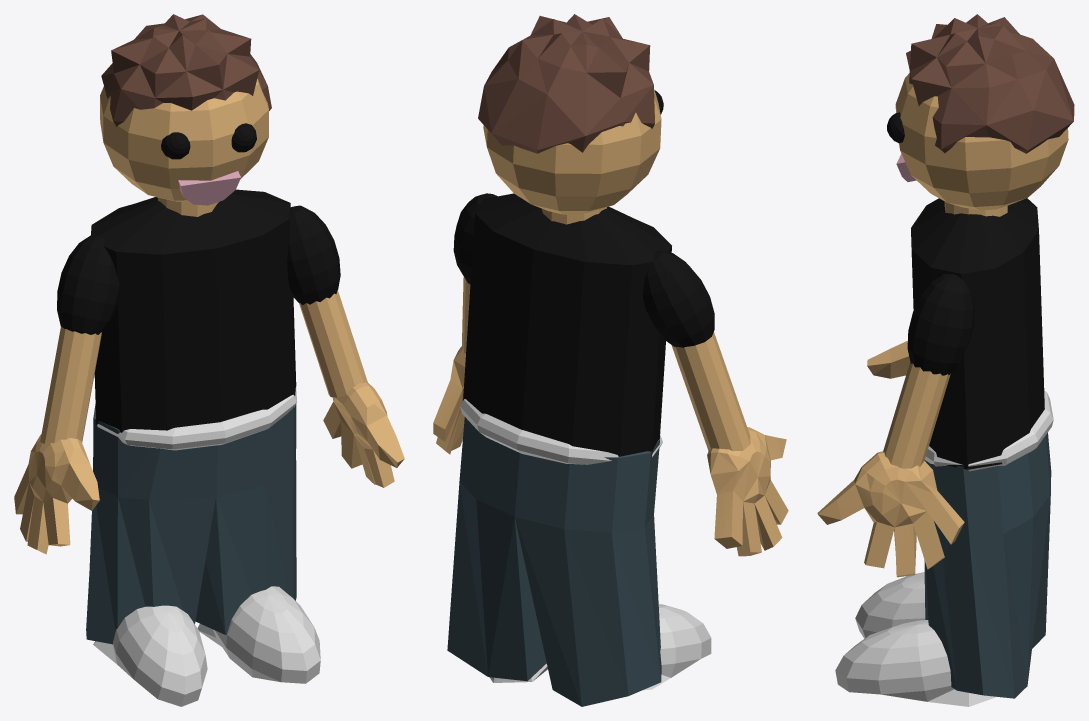
3 renders of one model, left to right at view 1: azimuth 30°, elevation 25°; view 2: azimuth 150°, elevation 25°; view 3: azimuth 270°, elevation 25°, orthographic. The views are drawn at different scales.
Parts seen in each view (by area): view 1: node_MeshObject-1137609408-PolyPaper18; view 2: node_MeshObject-1137609408-PolyPaper18; view 3: node_MeshObject-1137609408-PolyPaper18.
Boxes of the visible parts, x1=… form: node_MeshObject-1137609408-PolyPaper18: x1=14, y1=14, x2=404, y2=706; node_MeshObject-1137609408-PolyPaper18: x1=433, y1=14, x2=788, y2=706; node_MeshObject-1137609408-PolyPaper18: x1=817, y1=14, x2=1074, y2=706.
Size of the model in its own units: 0.1062 by 0.1932 by 0.0698.
